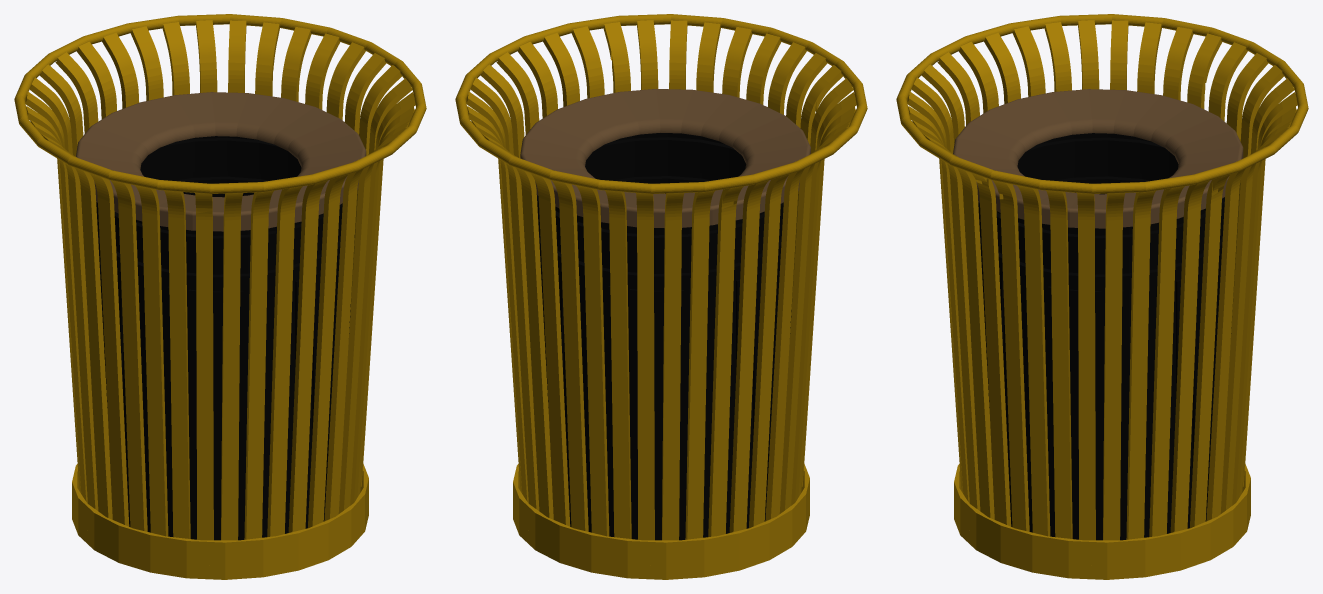
3 views of the same model, side by side, from view 1: azimuth 30°, elevation 25°; view 2: azimuth 150°, elevation 25°; view 3: azimuth 270°, elevation 25° (orthographic).
Visible parts, largest first — view 1: mesh73.001_mesh73-geometry, mesh176.001_mesh176-geometry, mesh94.001_mesh94-geometry, mesh139.001_mesh139-geometry, mesh152.001_mesh152-geometry, mesh117.001_mesh117-geometry, mesh119.001_mesh119-geometry, mesh123.001_mesh123-geometry, mesh164.001_mesh164-geometry, mesh154.001_mesh154-geometry, mesh125.001_mesh125-geometry, mesh115.001_mesh115-geometry (+33 smaller); view 2: mesh73.001_mesh73-geometry, mesh176.001_mesh176-geometry, mesh94.001_mesh94-geometry, mesh139.001_mesh139-geometry, mesh170.001_mesh170-geometry, mesh133.001_mesh133-geometry, mesh131.001_mesh131-geometry, mesh168.001_mesh168-geometry, mesh135.001_mesh135-geometry, mesh140.001_mesh140-geometry, mesh160.001_mesh160-geometry, mesh166.001_mesh166-geometry (+33 smaller); view 3: mesh73.001_mesh73-geometry, mesh176.001_mesh176-geometry, mesh94.001_mesh94-geometry, mesh139.001_mesh139-geometry, mesh150.001_mesh150-geometry, mesh148.001_mesh148-geometry, mesh146.001_mesh146-geometry, mesh105.001_mesh105-geometry, mesh127.001_mesh127-geometry, mesh129.001_mesh129-geometry, mesh113.001_mesh113-geometry, mesh162.001_mesh162-geometry (+33 smaller).
Part boxes in pixels (bbox=[...]): mesh73.001_mesh73-geometry: bbox=[96, 136, 354, 539]; mesh176.001_mesh176-geometry: bbox=[76, 92, 366, 231]; mesh94.001_mesh94-geometry: bbox=[72, 464, 368, 579]; mesh139.001_mesh139-geometry: bbox=[14, 14, 426, 193]; mesh152.001_mesh152-geometry: bbox=[135, 185, 168, 536]; mesh117.001_mesh117-geometry: bbox=[244, 190, 273, 539]; mesh119.001_mesh119-geometry: bbox=[267, 186, 302, 536]; mesh123.001_mesh123-geometry: bbox=[164, 190, 190, 538]; mesh164.001_mesh164-geometry: bbox=[221, 193, 243, 540]; mesh154.001_mesh154-geometry: bbox=[111, 180, 147, 531]; mesh125.001_mesh125-geometry: bbox=[288, 180, 327, 532]; mesh115.001_mesh115-geometry: bbox=[195, 193, 213, 540]; mesh73.001_mesh73-geometry: bbox=[537, 133, 783, 539]; mesh176.001_mesh176-geometry: bbox=[520, 88, 810, 227]; mesh94.001_mesh94-geometry: bbox=[513, 464, 809, 579]; mesh139.001_mesh139-geometry: bbox=[455, 14, 867, 193]; mesh170.001_mesh170-geometry: bbox=[576, 185, 609, 536]; mesh133.001_mesh133-geometry: bbox=[685, 190, 714, 539]; mesh131.001_mesh131-geometry: bbox=[708, 186, 743, 536]; mesh168.001_mesh168-geometry: bbox=[605, 190, 631, 538]; mesh135.001_mesh135-geometry: bbox=[662, 193, 684, 540]; mesh140.001_mesh140-geometry: bbox=[552, 180, 588, 531]; mesh160.001_mesh160-geometry: bbox=[729, 180, 768, 532]; mesh166.001_mesh166-geometry: bbox=[636, 193, 654, 540]; mesh73.001_mesh73-geometry: bbox=[978, 133, 1224, 540]; mesh176.001_mesh176-geometry: bbox=[953, 89, 1243, 228]; mesh94.001_mesh94-geometry: bbox=[954, 464, 1250, 579]; mesh139.001_mesh139-geometry: bbox=[896, 14, 1308, 193]; mesh150.001_mesh150-geometry: bbox=[1017, 185, 1050, 536]; mesh148.001_mesh148-geometry: bbox=[1126, 190, 1155, 539]; mesh146.001_mesh146-geometry: bbox=[1149, 186, 1184, 536]; mesh105.001_mesh105-geometry: bbox=[1046, 190, 1072, 538]; mesh127.001_mesh127-geometry: bbox=[1103, 193, 1125, 540]; mesh129.001_mesh129-geometry: bbox=[993, 180, 1029, 531]; mesh113.001_mesh113-geometry: bbox=[1170, 180, 1209, 532]; mesh162.001_mesh162-geometry: bbox=[1077, 193, 1095, 540].
Size of the model in its own units: 0.5532 by 0.6228 by 0.5533.
